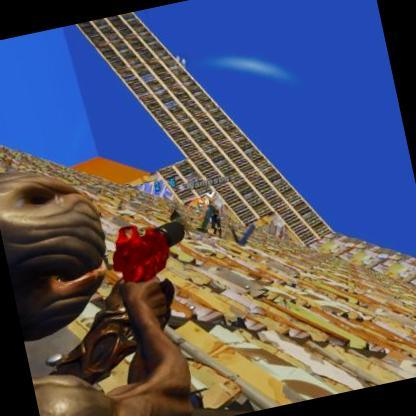Person: (204, 200, 226, 238)
